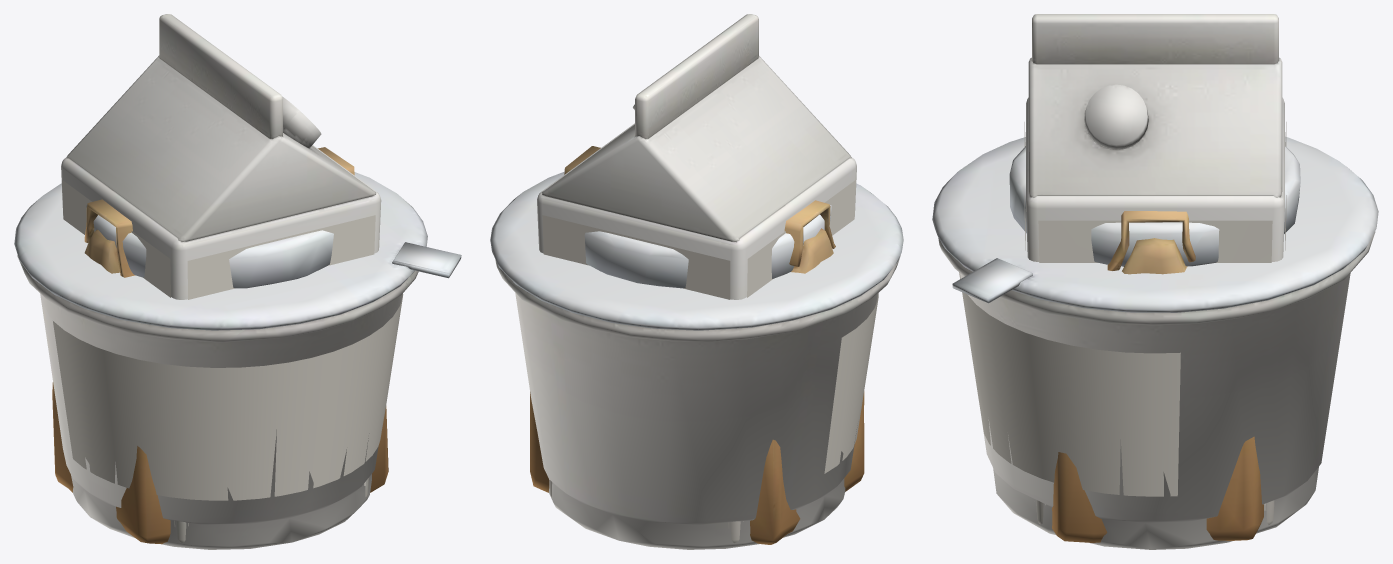
Rendered from packs.glb.
The picture shows the model from 3 angles, left to right: view 1: azimuth 30°, elevation 25°; view 2: azimuth 150°, elevation 25°; view 3: azimuth 270°, elevation 25°; orthographic projection. The views are drawn at different scales.
Parts seen in each view (by area): view 1: tub_label, carton_roof, tub, tub_lid, carton, sack, carton_label, tin_metal; view 2: tub, carton_roof, tub_lid, carton, sack, carton_label, tin_metal, tub_label; view 3: tub, carton_roof, tub_lid, tub_label, carton, sack, tin_metal, carton_label.
Boxes of the visible parts, box(x1,y1,x2,y2) form: tub_label: box(53, 293, 403, 500); carton_roof: box(66, 55, 375, 241); tub: box(17, 255, 418, 549); tub_lid: box(14, 172, 461, 330); carton: box(61, 14, 381, 542); sack: box(52, 147, 388, 544); carton_label: box(62, 180, 375, 526); tin_metal: box(86, 205, 333, 288); tub: box(495, 255, 900, 549); carton_roof: box(542, 56, 851, 242); tub_lid: box(490, 171, 903, 330); carton: box(537, 14, 856, 542); sack: box(530, 146, 864, 544); carton_label: box(542, 180, 856, 528); tin_metal: box(584, 205, 831, 288); tub_label: box(824, 293, 878, 473); tub: box(938, 231, 1375, 549); carton_roof: box(1028, 57, 1282, 197); tub_lid: box(932, 136, 1378, 312); tub_label: box(959, 272, 1180, 496); carton: box(1026, 14, 1284, 524); sack: box(1052, 211, 1263, 542); tin_metal: box(1009, 146, 1300, 266); carton_label: box(1024, 122, 1286, 510).
Bounding box in the file's own units: 1.37 × 1.6 × 1.37.
8 materials, 7 textured.
